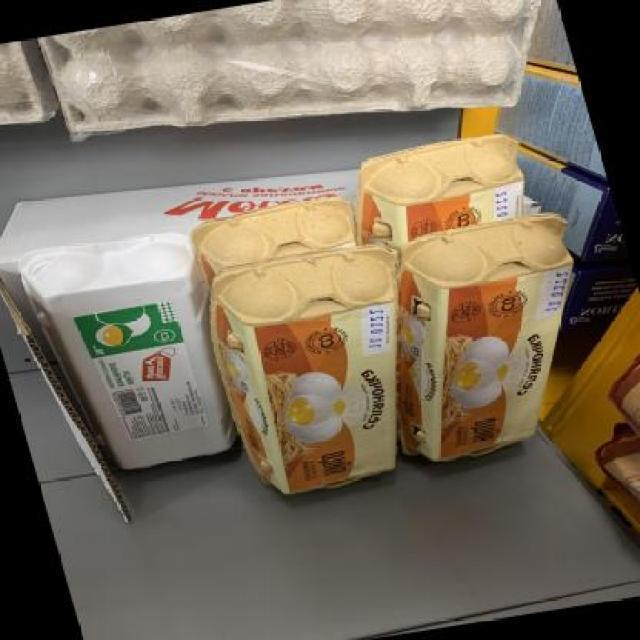Egg: (365, 212, 630, 470), (191, 243, 445, 502), (14, 227, 248, 482), (347, 136, 538, 242), (186, 193, 360, 272)
